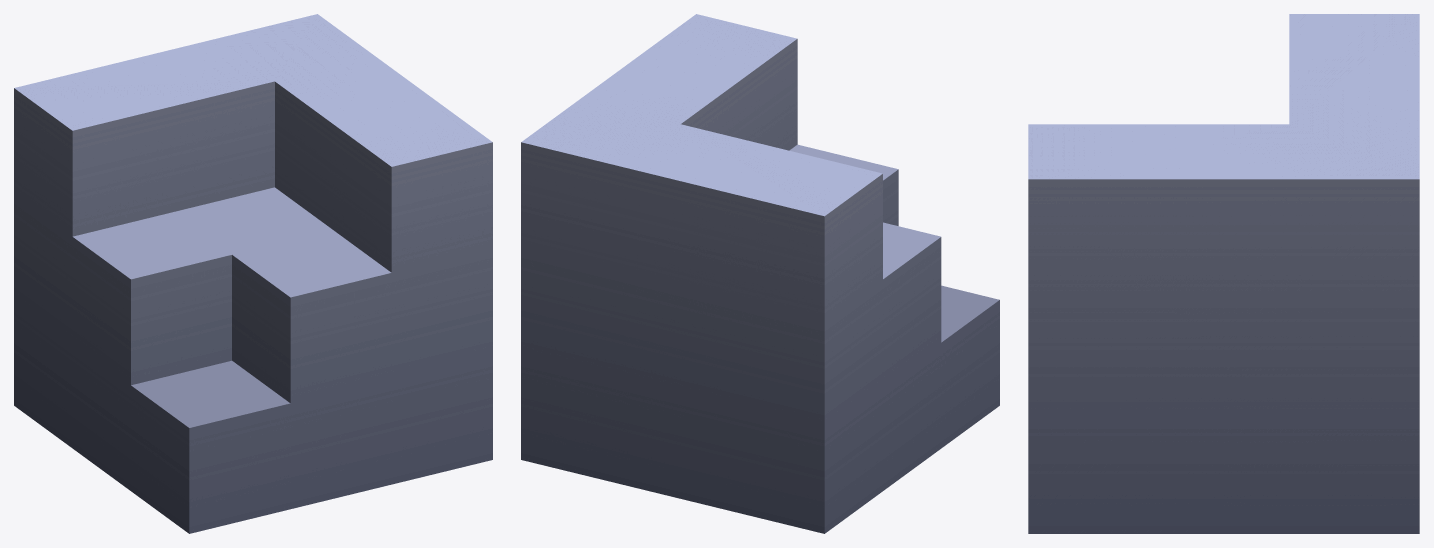
Rendered from stairs-small-corner-inner.glb.
3 views of the same model, side by side, from view 1: azimuth 30°, elevation 25°; view 2: azimuth 150°, elevation 25°; view 3: azimuth 270°, elevation 25° (orthographic). The views are drawn at different scales.
Visible parts, largest first — view 1: stairs-small-corner-inner; view 2: stairs-small-corner-inner; view 3: stairs-small-corner-inner.
Part boxes in pixels (bbox=[...]): stairs-small-corner-inner: bbox=[14, 14, 492, 533]; stairs-small-corner-inner: bbox=[521, 14, 999, 533]; stairs-small-corner-inner: bbox=[1028, 14, 1419, 533].
Size of the model in its own units: 0.3 by 0.3 by 0.3.
Materials: 1 (1 with a texture image).
